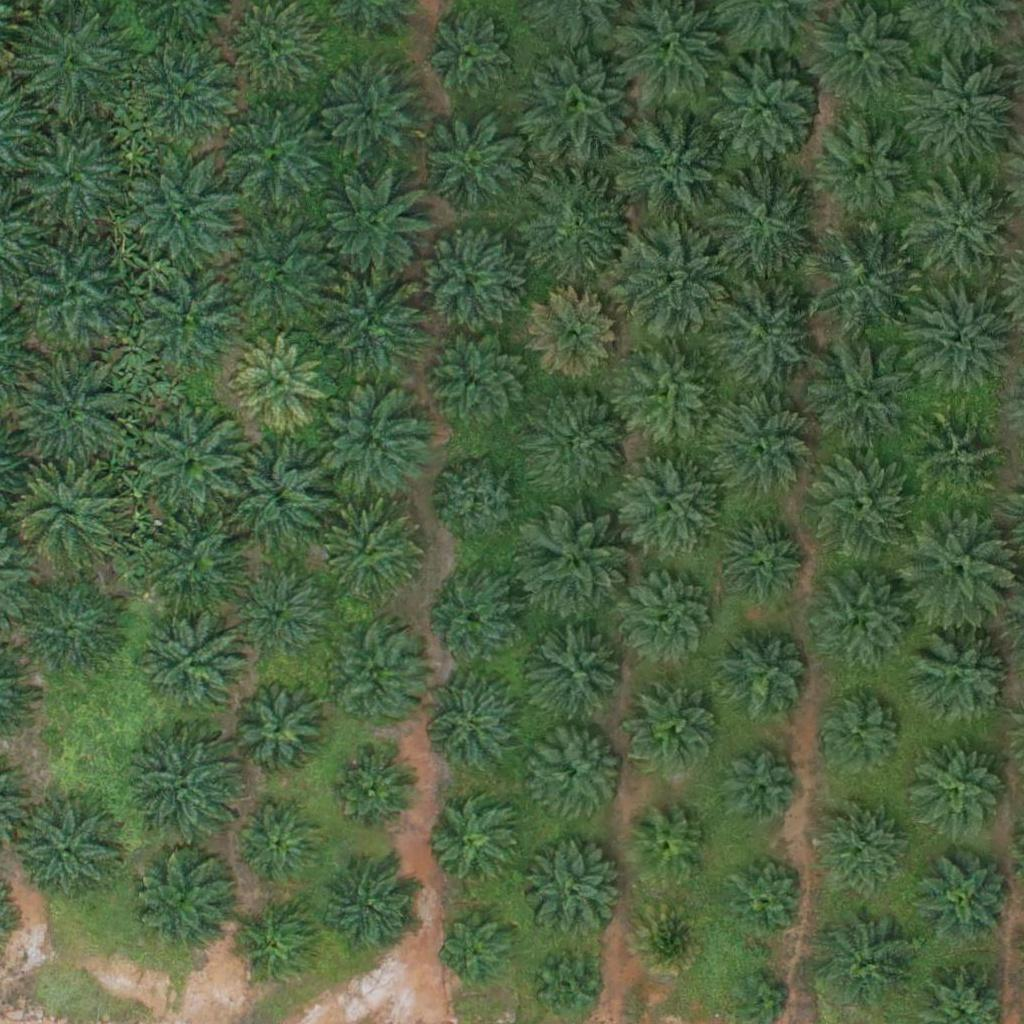Kelapa_Sawit: (128, 42, 241, 156), (220, 96, 333, 210), (226, 222, 339, 336), (318, 167, 431, 281), (315, 390, 428, 504), (521, 48, 634, 161), (613, 115, 726, 228), (616, 225, 729, 338), (902, 57, 1015, 170), (909, 175, 1022, 288), (708, 278, 821, 391), (130, 730, 243, 843), (316, 265, 429, 378), (18, 4, 130, 118), (131, 155, 243, 269), (139, 405, 251, 519), (224, 439, 336, 553), (522, 170, 634, 283), (709, 51, 821, 164), (704, 164, 816, 277), (805, 224, 917, 337), (903, 511, 1015, 624), (802, 450, 914, 563), (902, 278, 1014, 391), (806, 337, 918, 450), (15, 361, 127, 474), (524, 513, 636, 626), (23, 124, 123, 225), (18, 237, 118, 338), (321, 65, 421, 166), (420, 113, 520, 214), (817, 117, 917, 218), (910, 626, 1010, 727), (909, 742, 1009, 843), (813, 570, 913, 671), (710, 392, 810, 493), (621, 343, 721, 444), (16, 467, 116, 568), (22, 581, 122, 682), (145, 518, 245, 619), (147, 621, 247, 722), (428, 329, 528, 430), (530, 389, 630, 490), (323, 857, 423, 958), (136, 843, 236, 944), (21, 800, 121, 901), (420, 229, 520, 329), (818, 909, 918, 1009), (620, 455, 720, 555), (618, 566, 718, 666), (134, 269, 234, 369), (322, 505, 422, 605), (326, 637, 426, 737), (528, 723, 628, 823), (524, 841, 624, 941), (913, 412, 1001, 501), (233, 899, 321, 988), (424, 9, 512, 97), (631, 686, 719, 774), (528, 290, 616, 378), (231, 569, 319, 657), (233, 686, 321, 774), (534, 626, 622, 714), (335, 747, 423, 835), (236, 798, 324, 886), (922, 855, 1009, 943), (816, 686, 903, 774), (818, 798, 905, 886), (715, 516, 802, 604), (721, 635, 808, 723), (235, 335, 322, 423), (436, 457, 523, 545), (437, 575, 524, 663), (428, 681, 515, 769), (434, 800, 521, 888), (631, 811, 706, 887), (721, 750, 796, 826), (728, 859, 803, 935), (632, 900, 707, 976), (440, 908, 515, 983)
